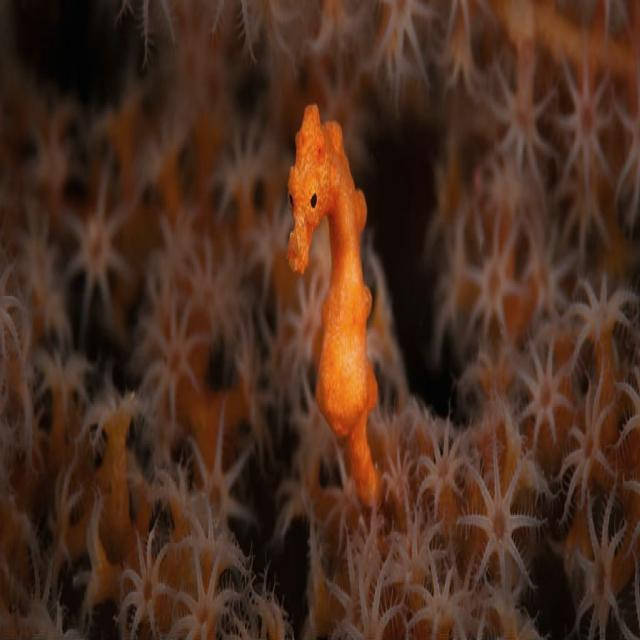seahorse: (286, 103, 379, 504)
